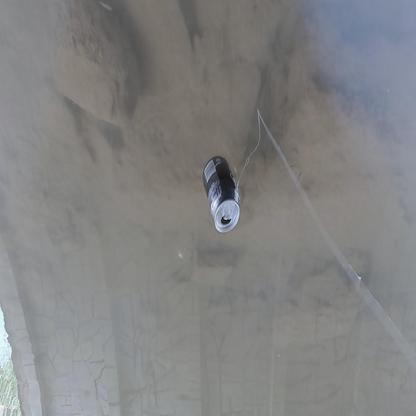can: (201, 155, 241, 233)
